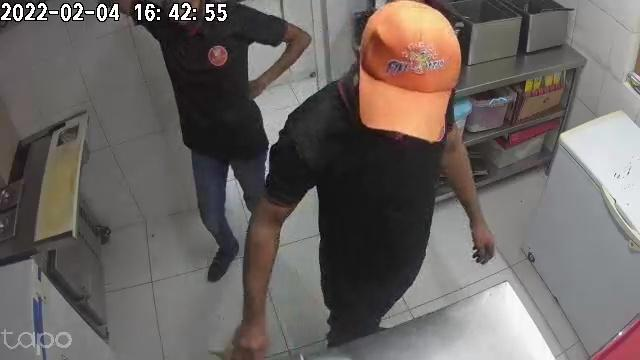no_gloves: (467, 210, 496, 264)
